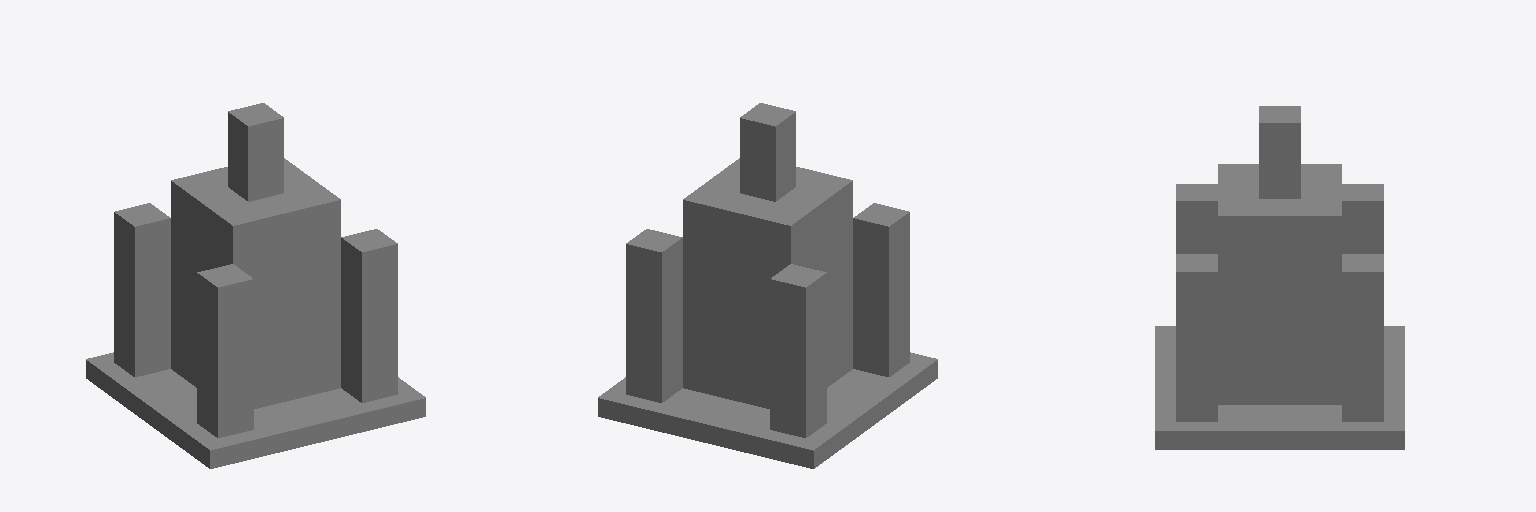
Rendered from missile_head_emp.obj.
3 renders of one model, left to right at view 1: azimuth 30°, elevation 25°; view 2: azimuth 150°, elevation 25°; view 3: azimuth 270°, elevation 25°, orthographic.
Parts seen in each view (by area): view 1: group_5, Component_57, group_3, group_4; view 2: group_5, Component_57, group_3, group_4; view 3: group_5, Component_57, group_3, group_4.
Boxes of the visible parts, box(x1,y1,x2,y2) form: group_5: box(171, 158, 340, 408); Component_57: box(114, 203, 397, 437); group_3: box(86, 352, 425, 468); group_4: box(228, 103, 283, 201); group_5: box(683, 158, 852, 408); Component_57: box(626, 203, 909, 437); group_3: box(598, 352, 937, 468); group_4: box(740, 103, 795, 201); group_5: box(1218, 164, 1341, 404); Component_57: box(1176, 184, 1383, 421); group_3: box(1155, 326, 1404, 449); group_4: box(1259, 106, 1300, 198).
Bounding box in the file's own units: 75.59 × 94.49 × 75.59.